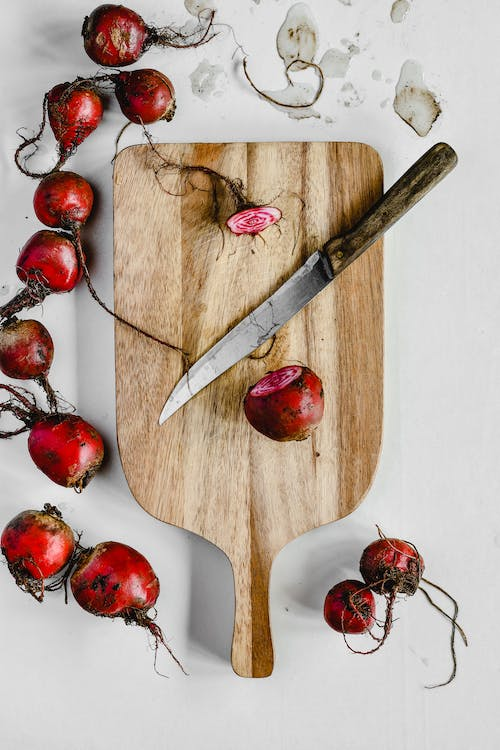knife: (155, 138, 459, 427)
